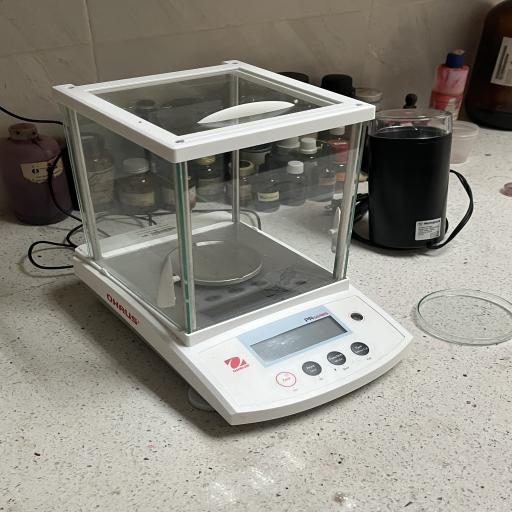Balanza_Analitica_Ohaus: (43, 53, 423, 434)
